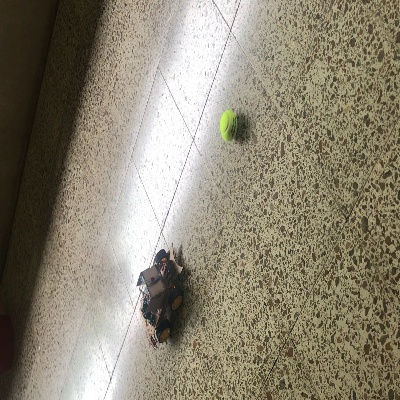Ball: (219, 109, 237, 140)
Robot: (135, 248, 185, 342)
